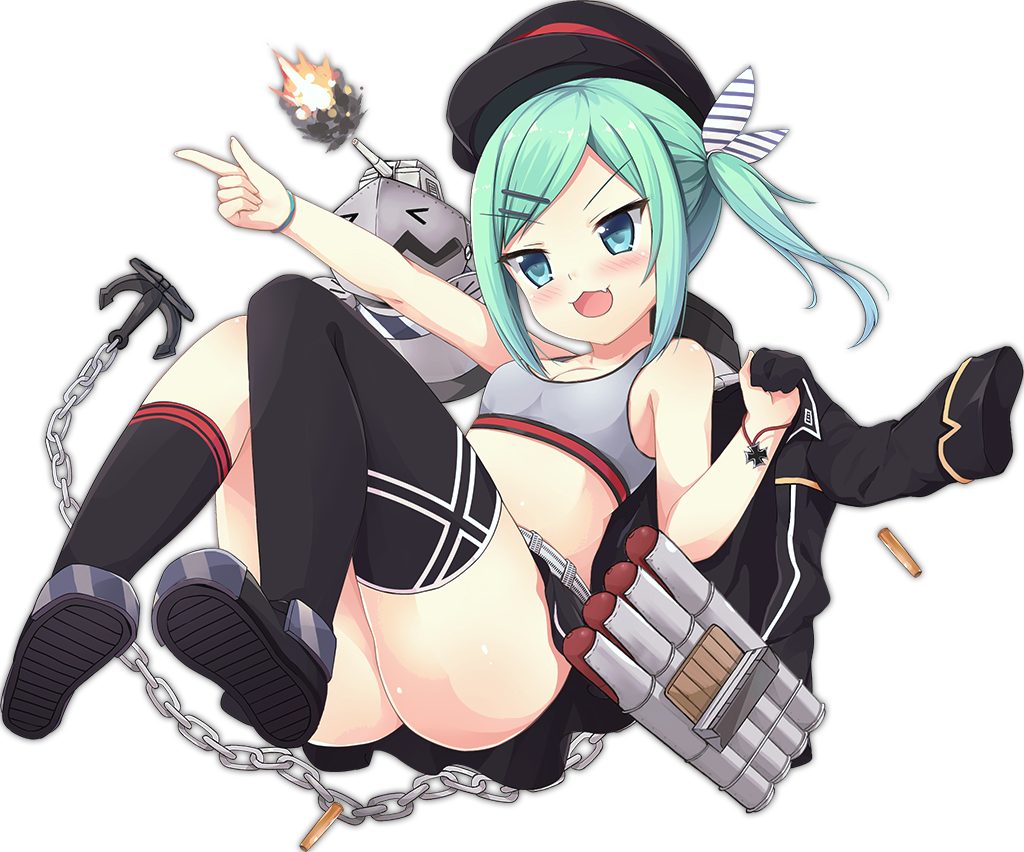person: (1, 1, 1024, 852)
